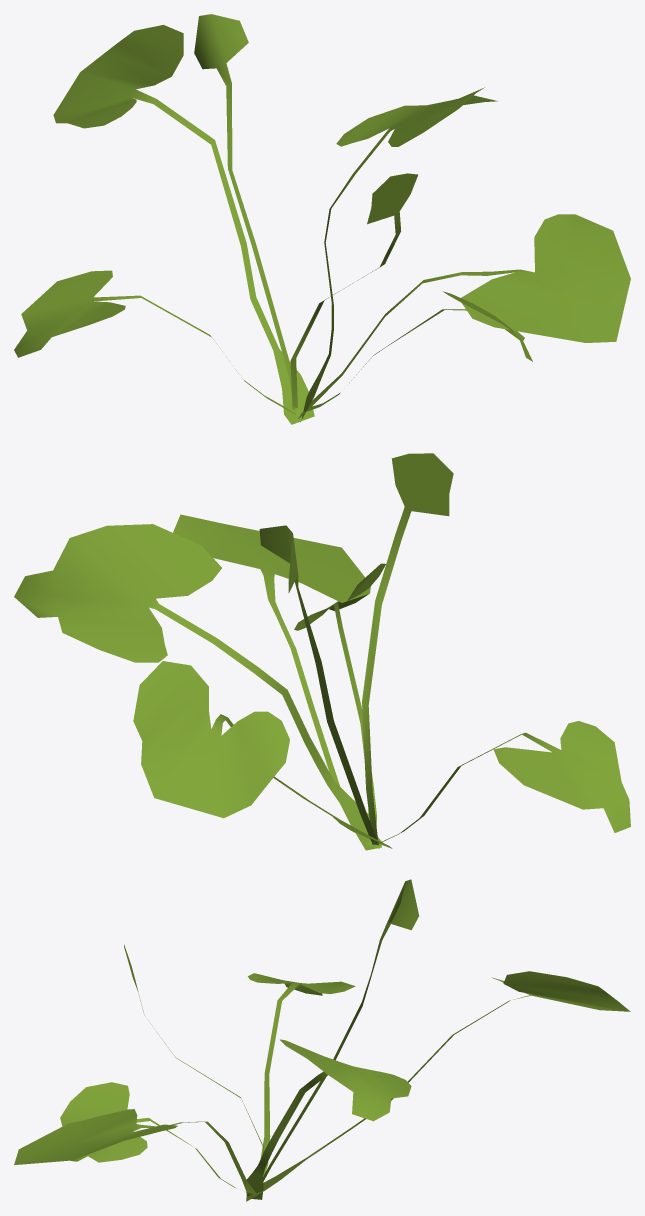
Rendered from groundcover_14.fbx.
The picture shows the model from 3 angles, top to bottom: view 1: azimuth 30°, elevation 25°; view 2: azimuth 150°, elevation 25°; view 3: azimuth 270°, elevation 25°; orthographic projection. The views are drawn at different scales.
Parts seen in each view (by area): view 1: groundcover_14_LOD0; view 2: groundcover_14_LOD0; view 3: groundcover_14_LOD0.
Part boxes in pixels (box(x1,y1,x2,y2)): groundcover_14_LOD0: box(14, 14, 630, 424); groundcover_14_LOD0: box(14, 453, 630, 850); groundcover_14_LOD0: box(14, 879, 630, 1201).
Size of the model in its own units: 0.1883 by 0.1231 by 0.2177.
